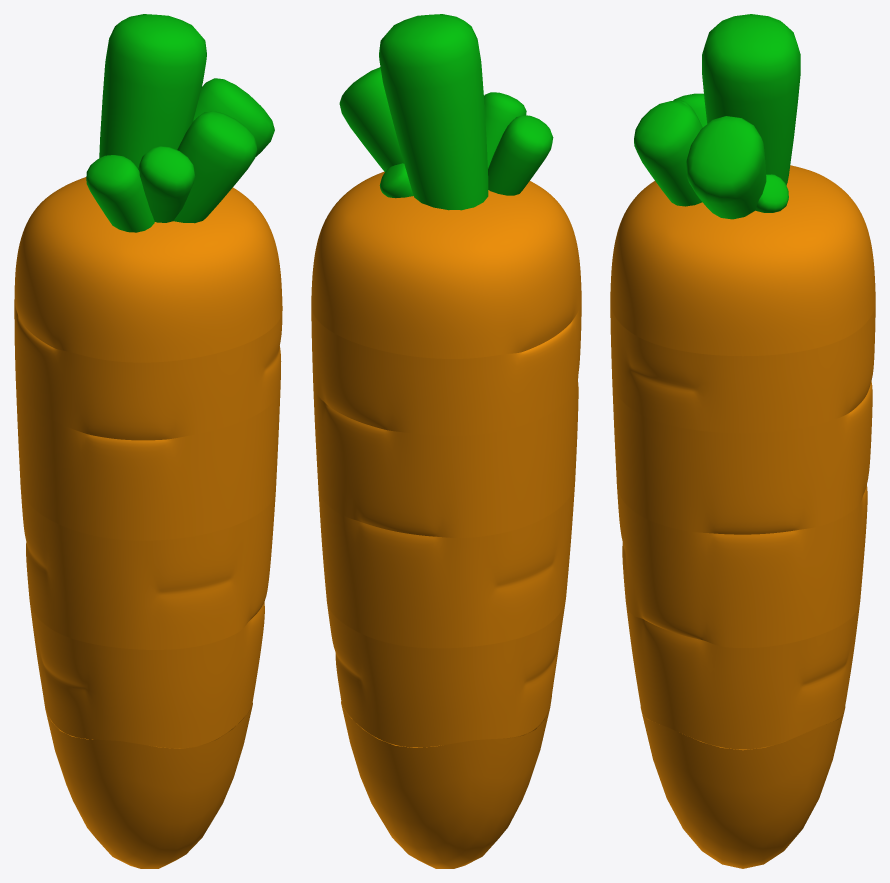
File: Carrot.fbx
3 renders of one model, left to right at view 1: azimuth 30°, elevation 25°; view 2: azimuth 150°, elevation 25°; view 3: azimuth 270°, elevation 25°, orthographic.
Visible parts, largest first — view 1: Cube.019, Cube.016, Cube.017, Cube.015, Cube.018, Cube.014; view 2: Cube.019, Cube.016, Cube.017, Cube.015, Cube.018, Cube.014; view 3: Cube.019, Cube.016, Cube.017, Cube.015, Cube.018, Cube.014.
Part boxes in pixels (bbox=[...]): Cube.019: bbox=[14, 14, 282, 362]; Cube.016: bbox=[20, 488, 275, 649]; Cube.017: bbox=[16, 384, 280, 540]; Cube.015: bbox=[30, 602, 264, 748]; Cube.018: bbox=[14, 302, 282, 440]; Cube.014: bbox=[43, 699, 252, 868]; Cube.019: bbox=[311, 14, 581, 358]; Cube.016: bbox=[318, 485, 574, 648]; Cube.017: bbox=[313, 382, 578, 537]; Cube.015: bbox=[327, 601, 565, 747]; Cube.018: bbox=[311, 303, 581, 435]; Cube.014: bbox=[341, 696, 551, 868]; Cube.019: bbox=[610, 14, 875, 356]; Cube.016: bbox=[617, 485, 867, 647]; Cube.017: bbox=[612, 381, 872, 534]; Cube.015: bbox=[626, 604, 859, 749]; Cube.018: bbox=[610, 304, 875, 433]; Cube.014: bbox=[640, 706, 845, 868].
Size of the model in its own units: 143 by 503 by 143.
